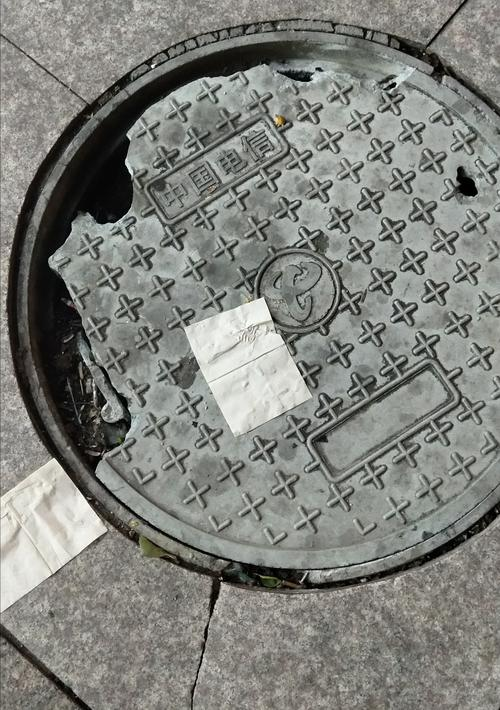broke: (11, 16, 493, 597)
